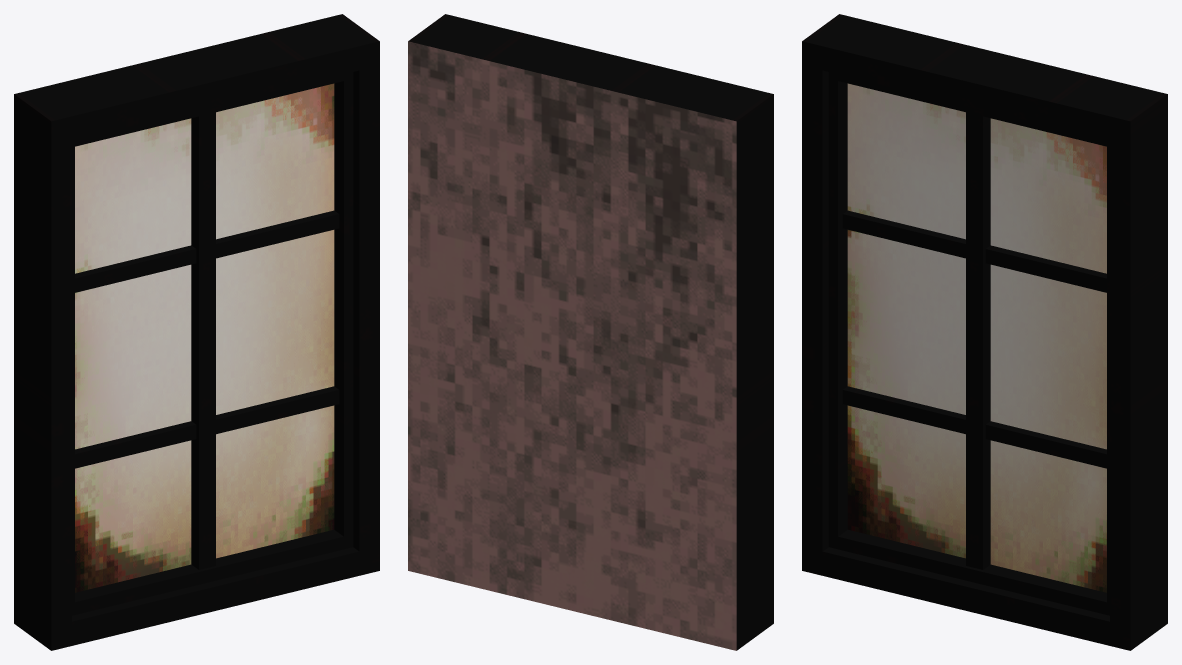
The model's file is IntWindow.obj.
3 views of the same model, side by side, from view 1: azimuth 30°, elevation 25°; view 2: azimuth 150°, elevation 25°; view 3: azimuth 330°, elevation 25° (orthographic).
Visible parts, largest first — view 1: Cube.032; view 2: Cube.032; view 3: Cube.032.
Boxes of the visible parts, x1,y1,x2,y2 form: Cube.032: (14,14,379,650); Cube.032: (408,14,773,650); Cube.032: (802,14,1167,650).
Bounding box in the file's own units: 0.1126 × 0.1735 × 0.0221.
